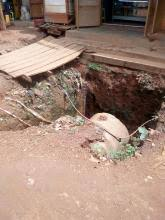Manhole-Open: (31, 43, 164, 169)
